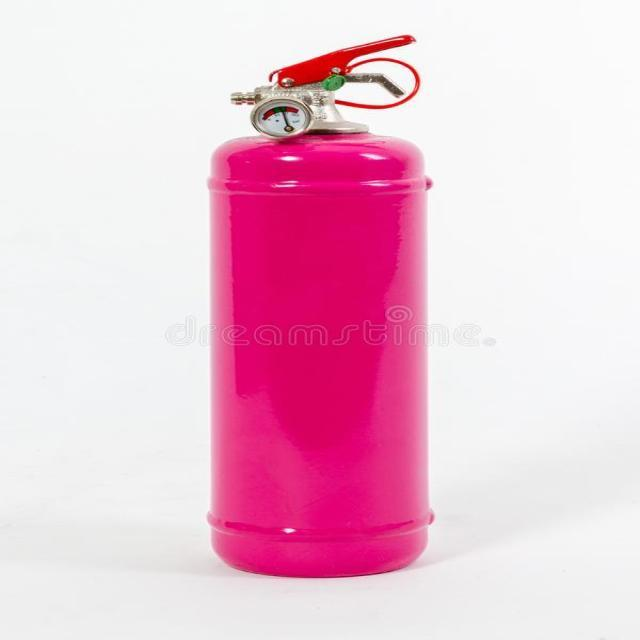FireExtinguisher: (195, 32, 442, 582)
